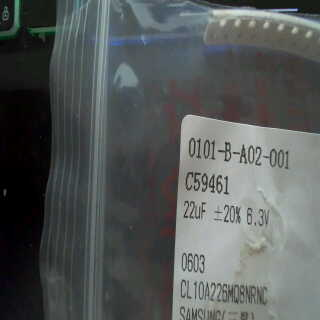22uF: (178, 197, 208, 223)
